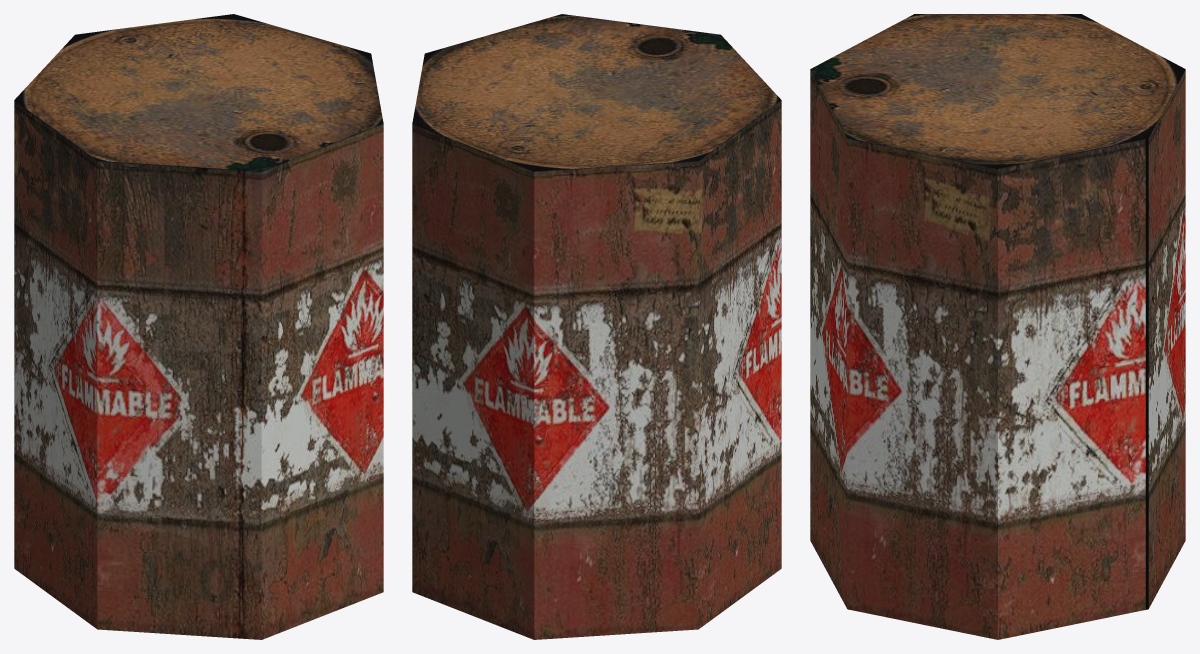
The model's file is Tunna.fbx.
3 renders of one model, left to right at view 1: azimuth 30°, elevation 25°; view 2: azimuth 150°, elevation 25°; view 3: azimuth 270°, elevation 25°, orthographic.
Visible parts, largest first — view 1: pasted__polySurface18; view 2: pasted__polySurface18; view 3: pasted__polySurface18.
Part boxes in pixels (box(x1,y1,x2,y2)): pasted__polySurface18: box(14, 14, 383, 639); pasted__polySurface18: box(412, 14, 781, 639); pasted__polySurface18: box(810, 14, 1185, 639).
Size of the model in its own units: 3.05 by 4.33 by 3.13.
1 material, 1 textured.
